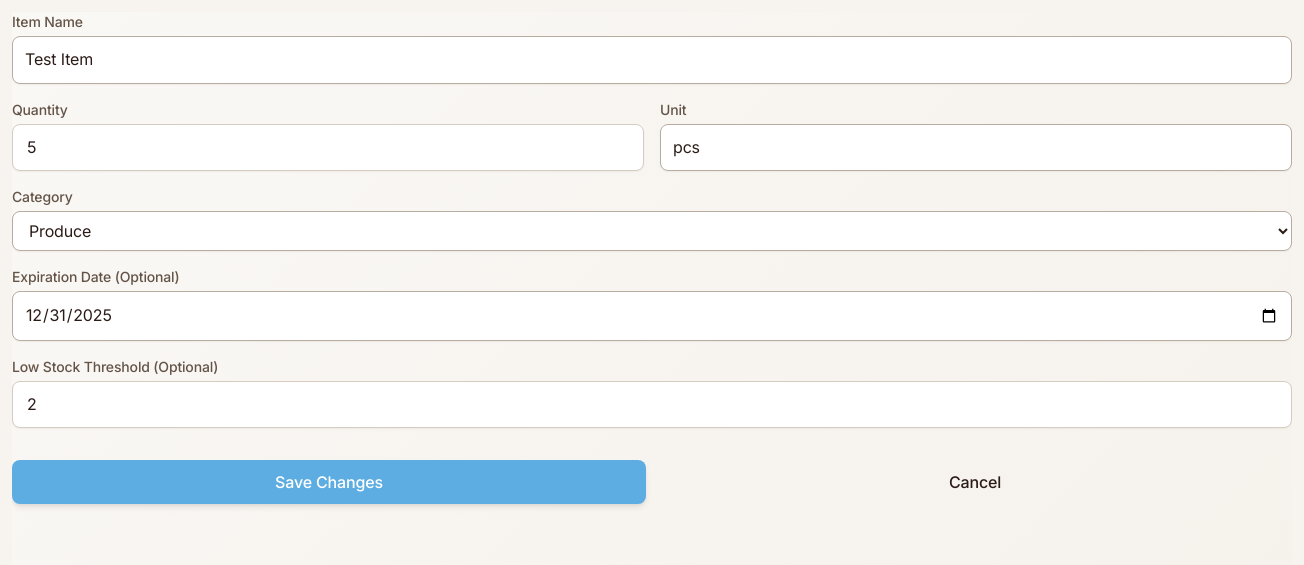
Test: EditPantryItemForm › validates quantity cannot be negative
Replace the text in the number field labelled "Quantity" with "-1" at (328, 147), box [12,124,644,171]
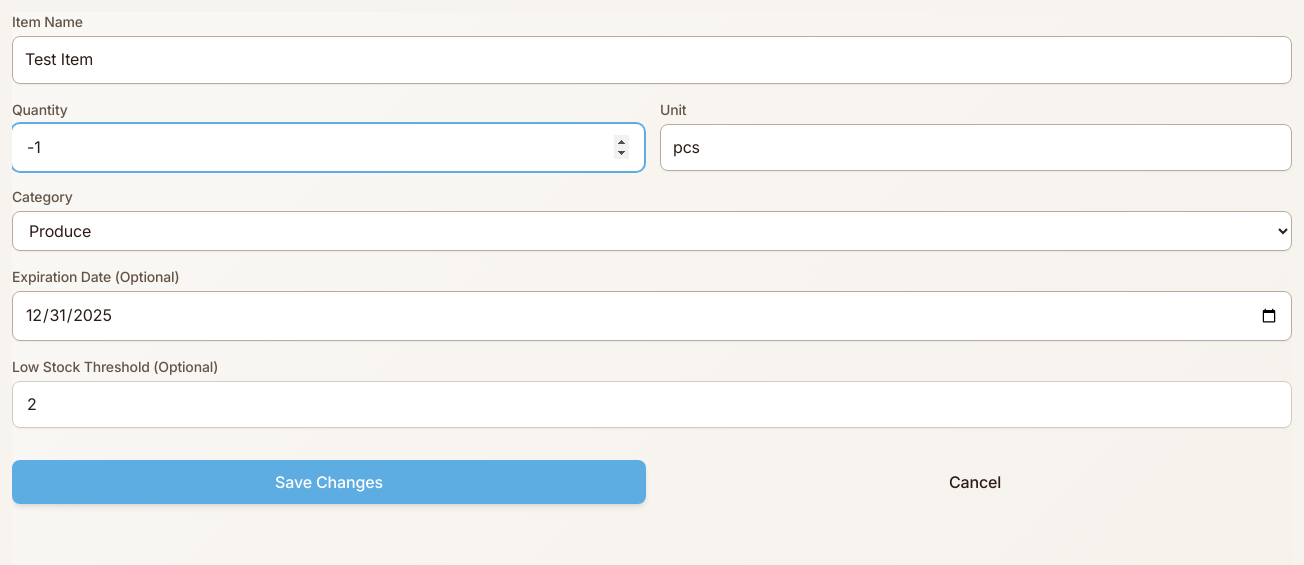
Click the button "Save Changes".
click(329, 482)  # box [12,460,646,504]
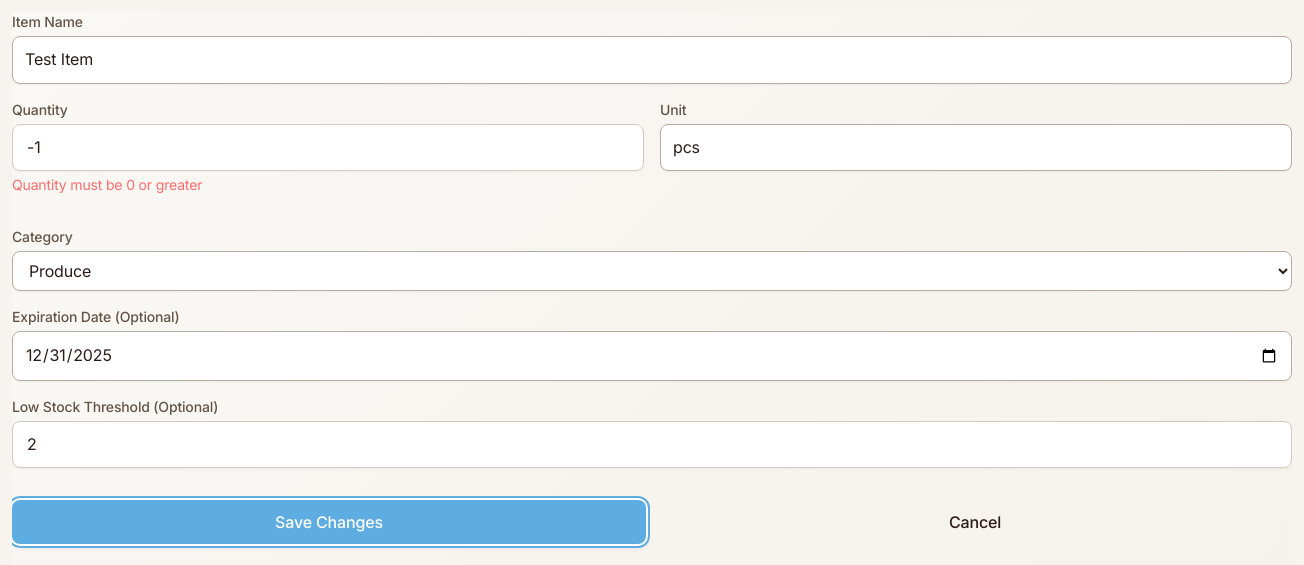
Result: the text "Quantity must be 0 or greater" is shown at [12,176,202,193]
